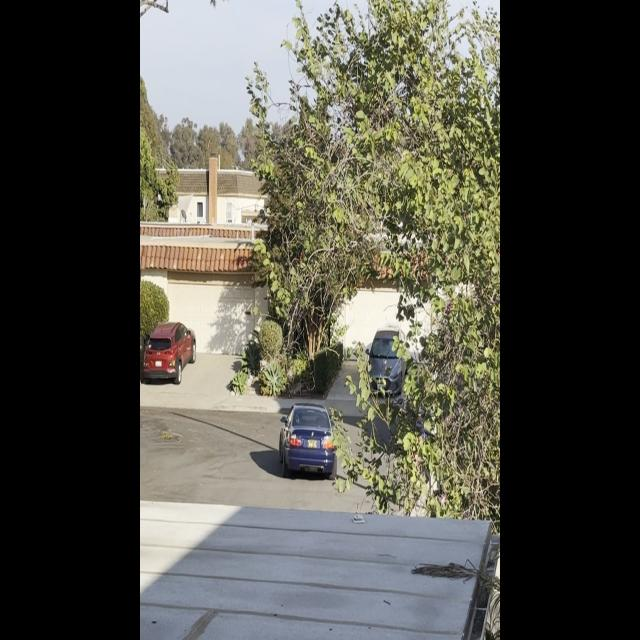Carbeetle: (271, 399, 344, 488)
Civilian: (140, 318, 199, 383), (363, 320, 409, 403)
